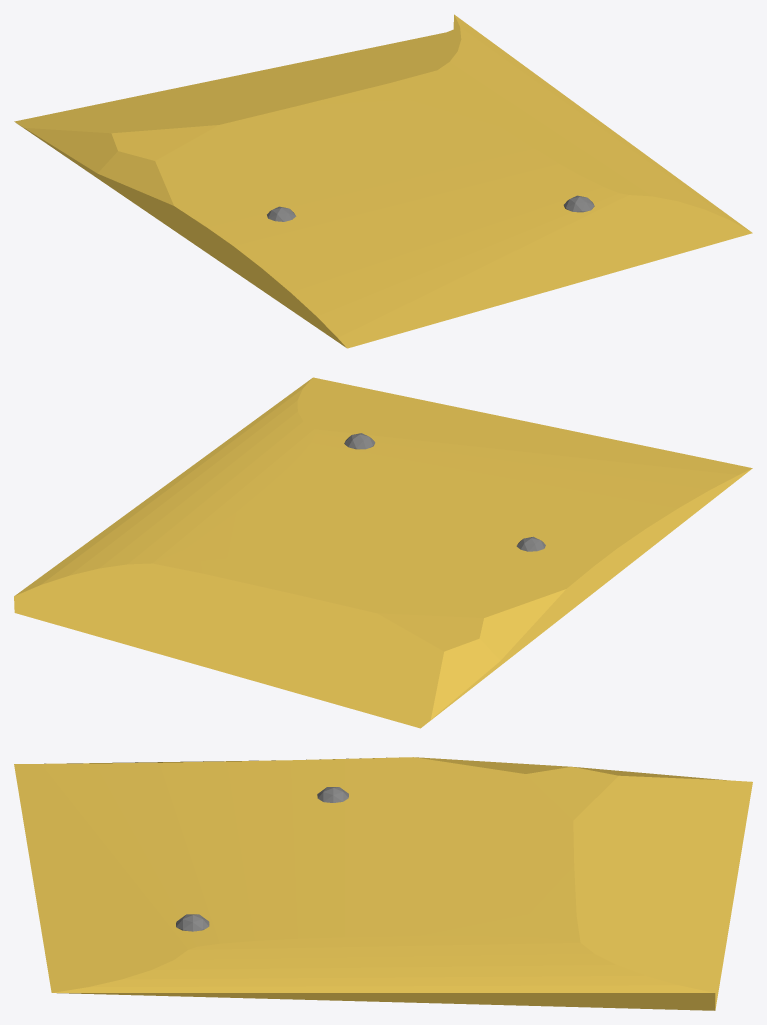
Rendered from island-1.glb.
3 renders of one model, top to bottom at view 1: azimuth 30°, elevation 25°; view 2: azimuth 150°, elevation 25°; view 3: azimuth 270°, elevation 25°, orthographic. The views are drawn at different scales.
Visible parts, largest first — view 1: island; view 2: island; view 3: island.
Part boxes in pixels (x1=…): island: x1=14, y1=14, x2=752, y2=348; island: x1=14, y1=377, x2=752, y2=728; island: x1=14, y1=757, x2=752, y2=1010.
Size of the model in its own units: 27.04 by 2 by 36.83.
